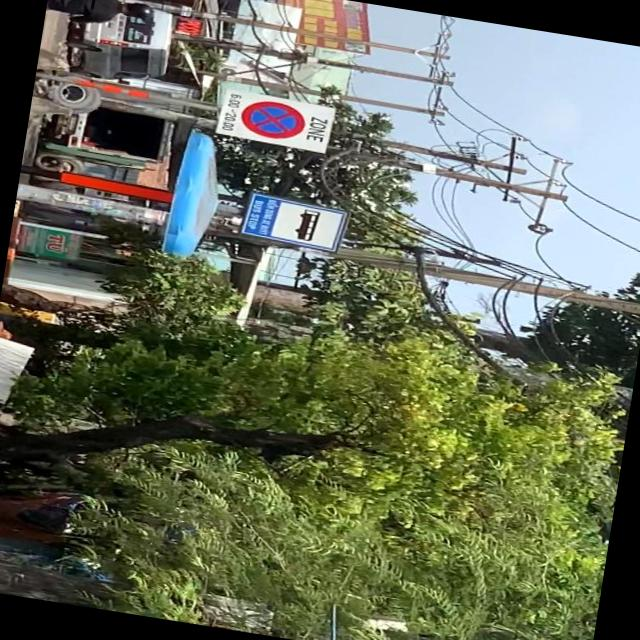P-130: (239, 97, 307, 141)
